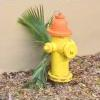a fire hydrant: (46, 12, 77, 82)
